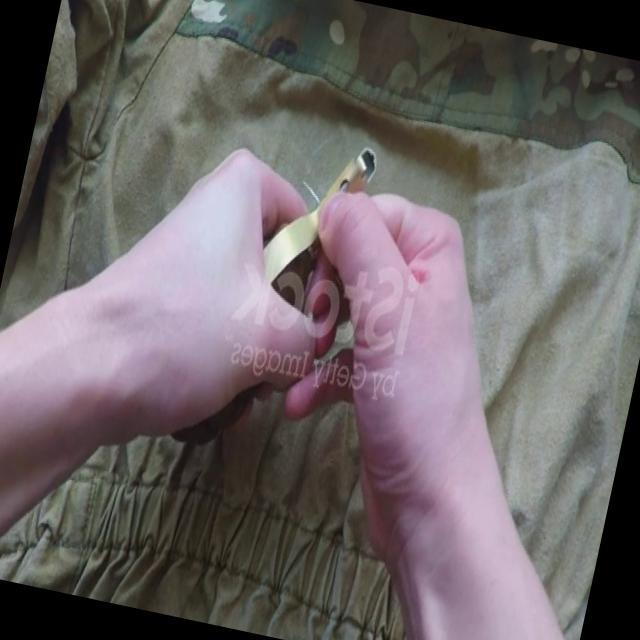grenade: (166, 108, 376, 466)
